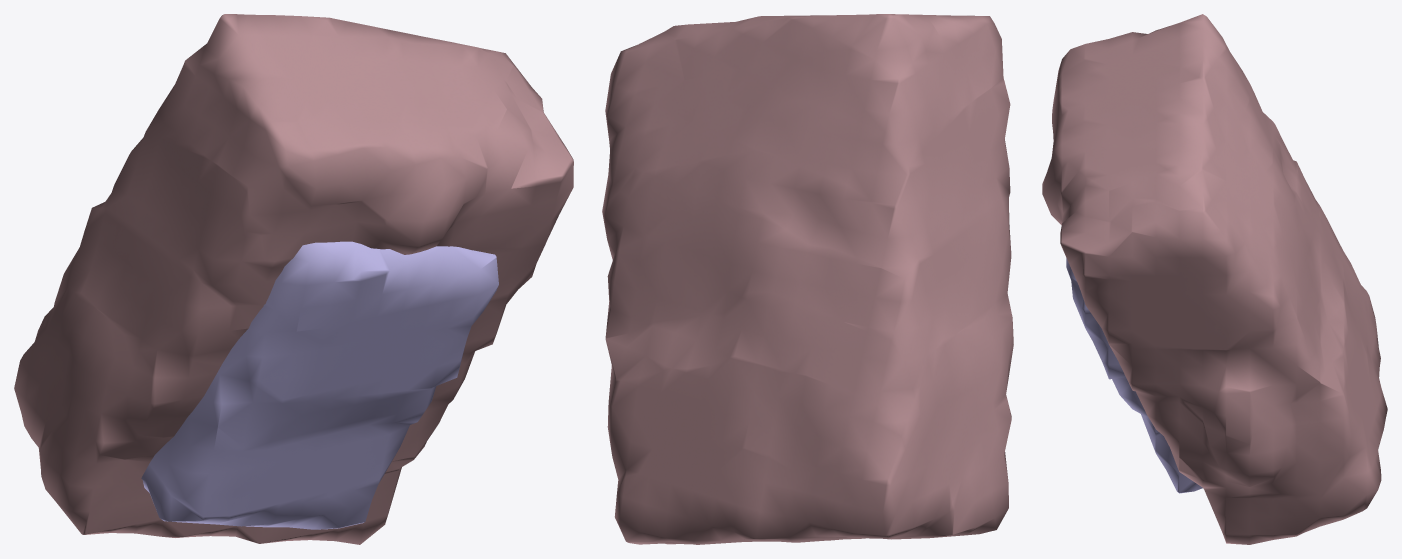
File: phone.gltf
3 renders of one model, left to right at view 1: azimuth 30°, elevation 25°; view 2: azimuth 150°, elevation 25°; view 3: azimuth 270°, elevation 25°, orthographic. The views are drawn at different scales.
Visible parts, largest first — view 1: Layer_1, Layer_2; view 2: Layer_1; view 3: Layer_1, Layer_2.
Part boxes in pixels (x1=…): Layer_1: x1=14, y1=14, x2=573, y2=544; Layer_2: x1=141, y1=241, x2=498, y2=529; Layer_1: x1=602, y1=14, x2=1013, y2=544; Layer_1: x1=1042, y1=14, x2=1387, y2=544; Layer_2: x1=1066, y1=258, x2=1202, y2=493.
Size of the model in its own units: 13.02 by 16.58 by 11.05.
2 materials, 2 textured.
